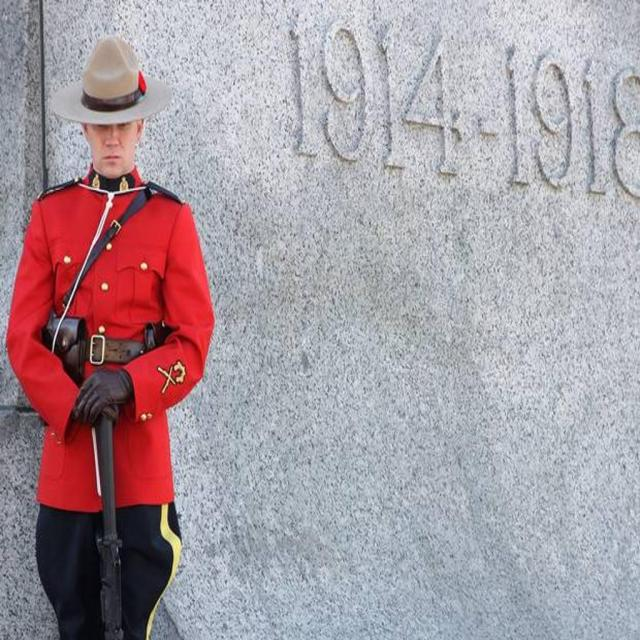Face: (83, 110, 137, 184)
